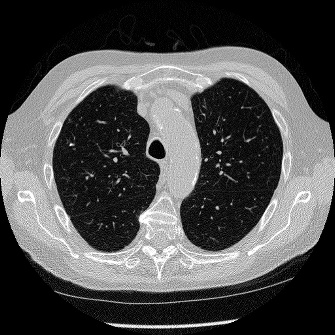PN: (69, 143, 73, 147)
